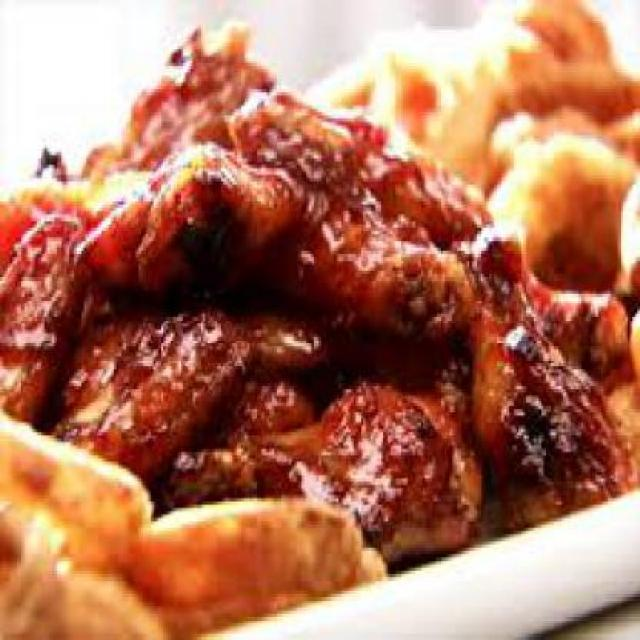chicken wings: (2, 16, 618, 529)
